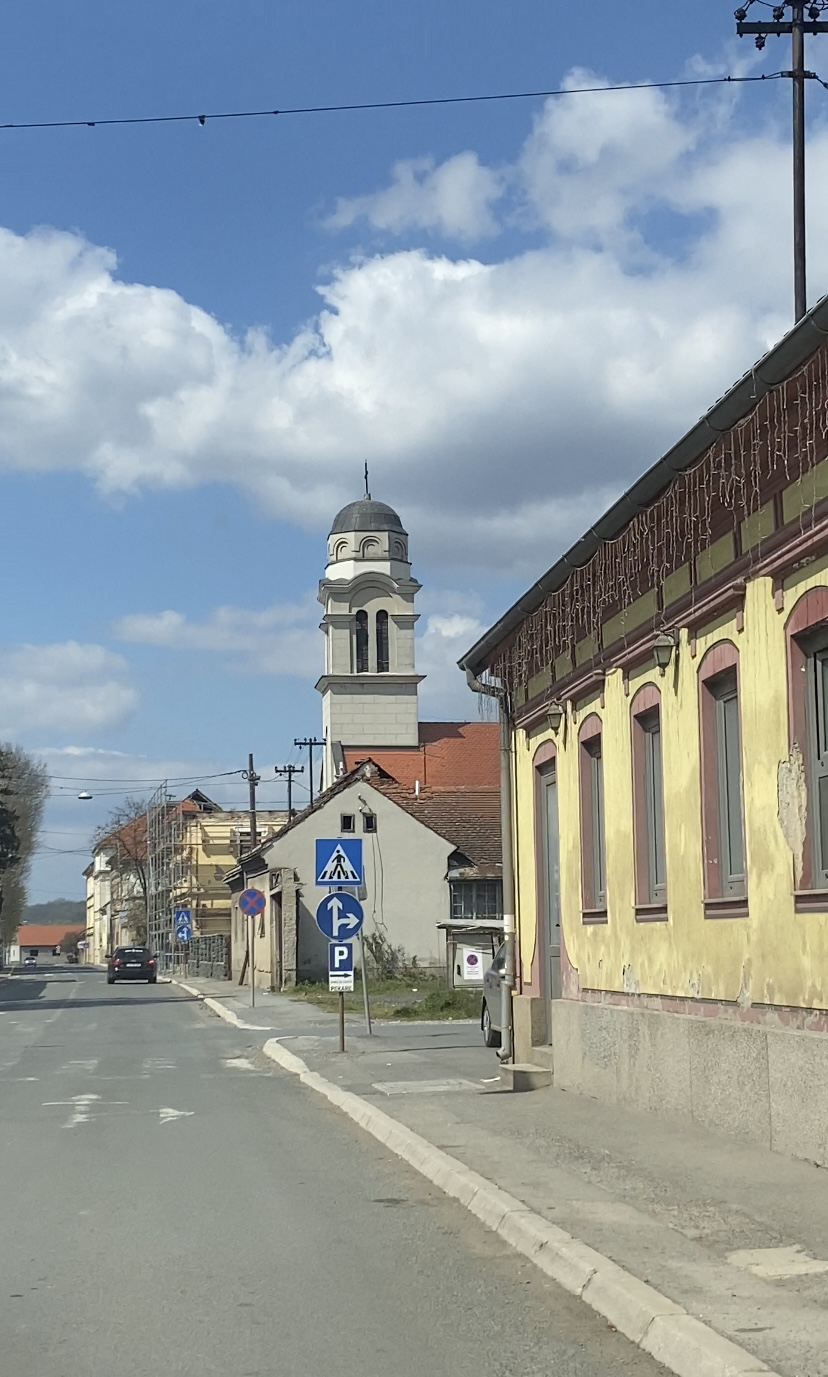Pješački prijelaz: (315, 838, 363, 886), (175, 910, 191, 925)
